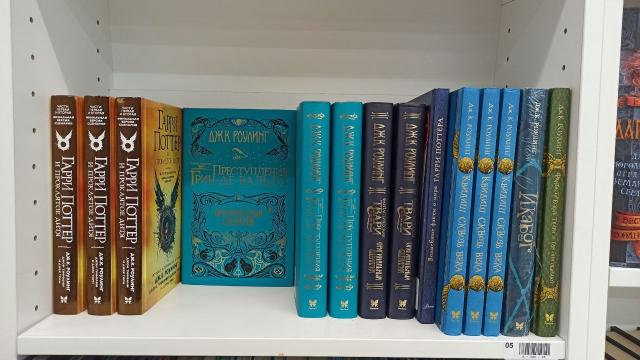book-s-spine: (504, 89, 548, 336), (484, 88, 520, 336), (465, 88, 500, 335), (446, 87, 480, 336), (538, 89, 569, 337), (390, 103, 424, 319), (362, 103, 393, 319), (421, 88, 449, 324), (300, 103, 330, 317), (332, 104, 362, 318), (84, 96, 111, 315), (52, 96, 77, 314), (116, 97, 141, 315)
